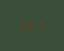seven: (37, 20, 45, 31)
six: (28, 20, 36, 31)
three: (18, 20, 26, 31)
